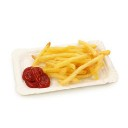frenchfries: (37, 41, 107, 83)
